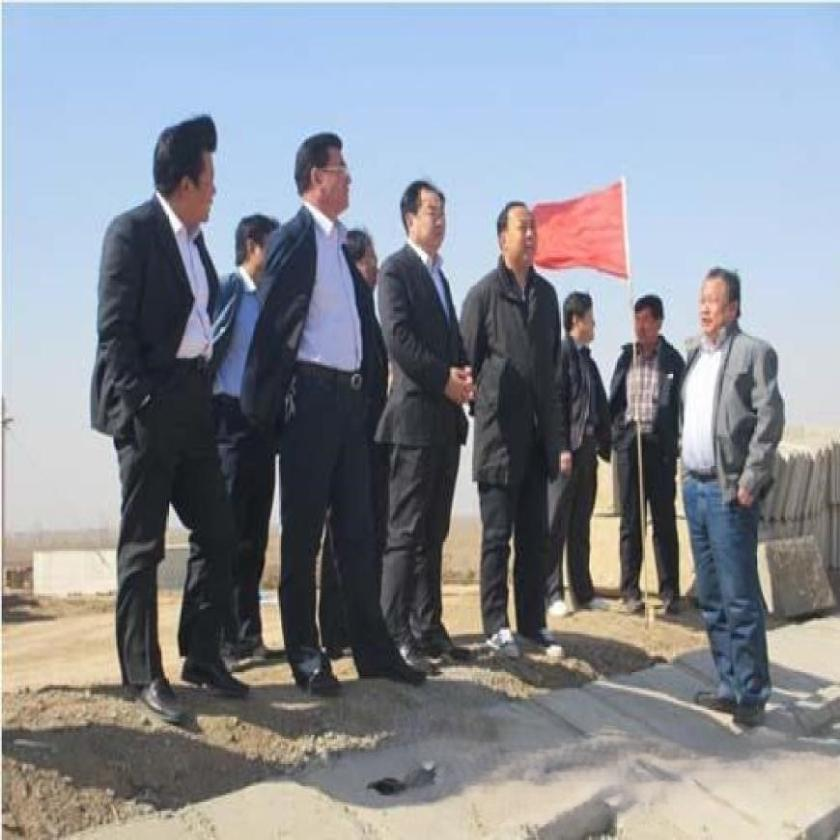Sin_casco: (148, 104, 220, 224), (290, 119, 353, 217), (400, 171, 449, 260), (494, 195, 547, 271), (696, 263, 746, 338), (562, 281, 599, 360), (630, 289, 666, 349)
